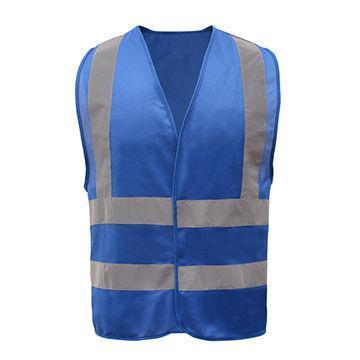vest: (76, 25, 282, 341)
